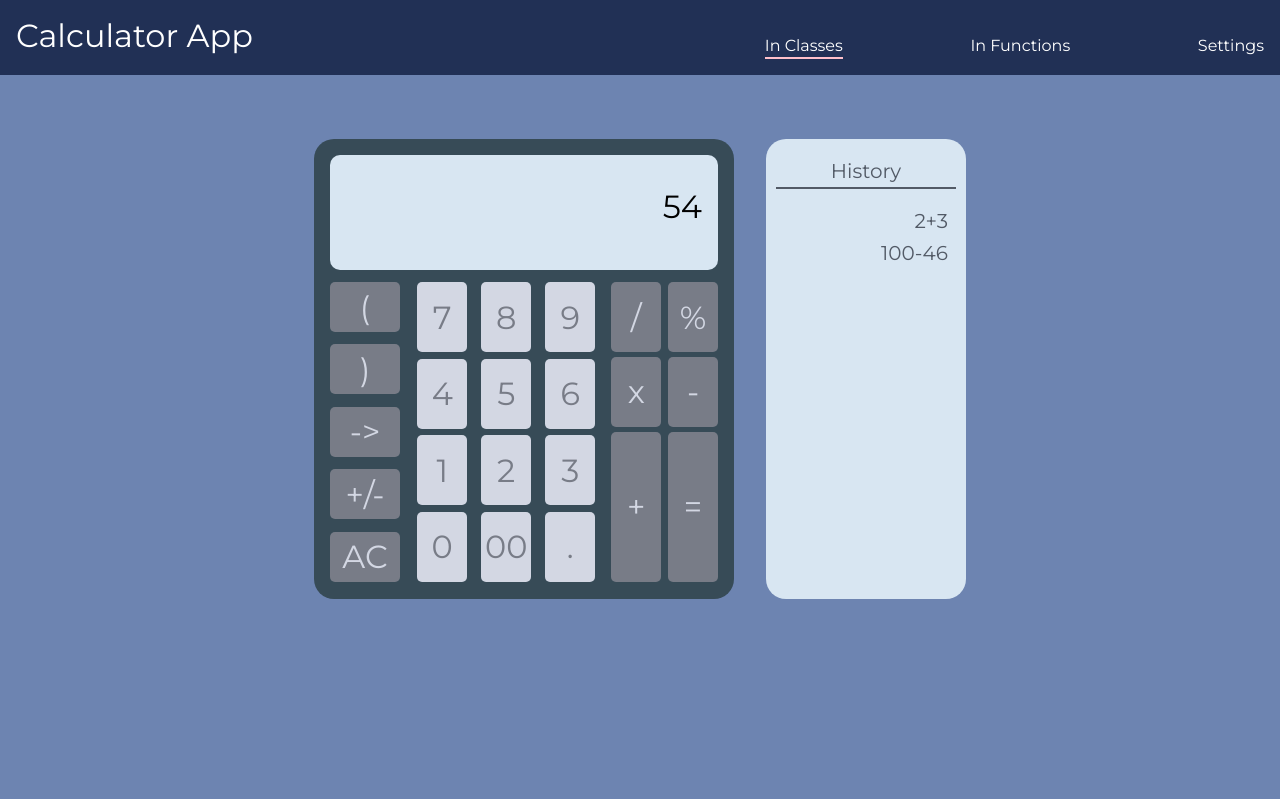
Test: Calculation operations › base 78 / 9 = 8.667
Click the button "7": (442, 317) 417,282 -> 467,352
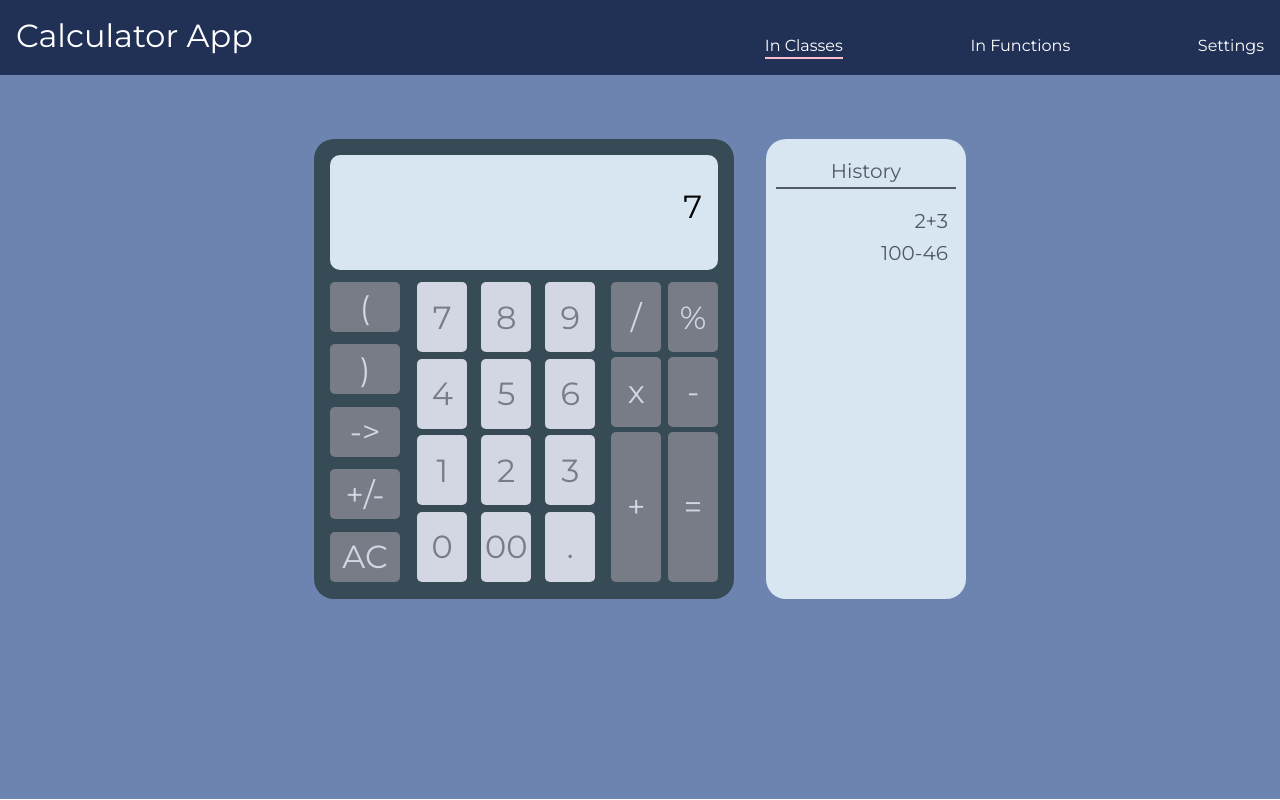
Click the button "8": (506, 317) 481,282 -> 531,352
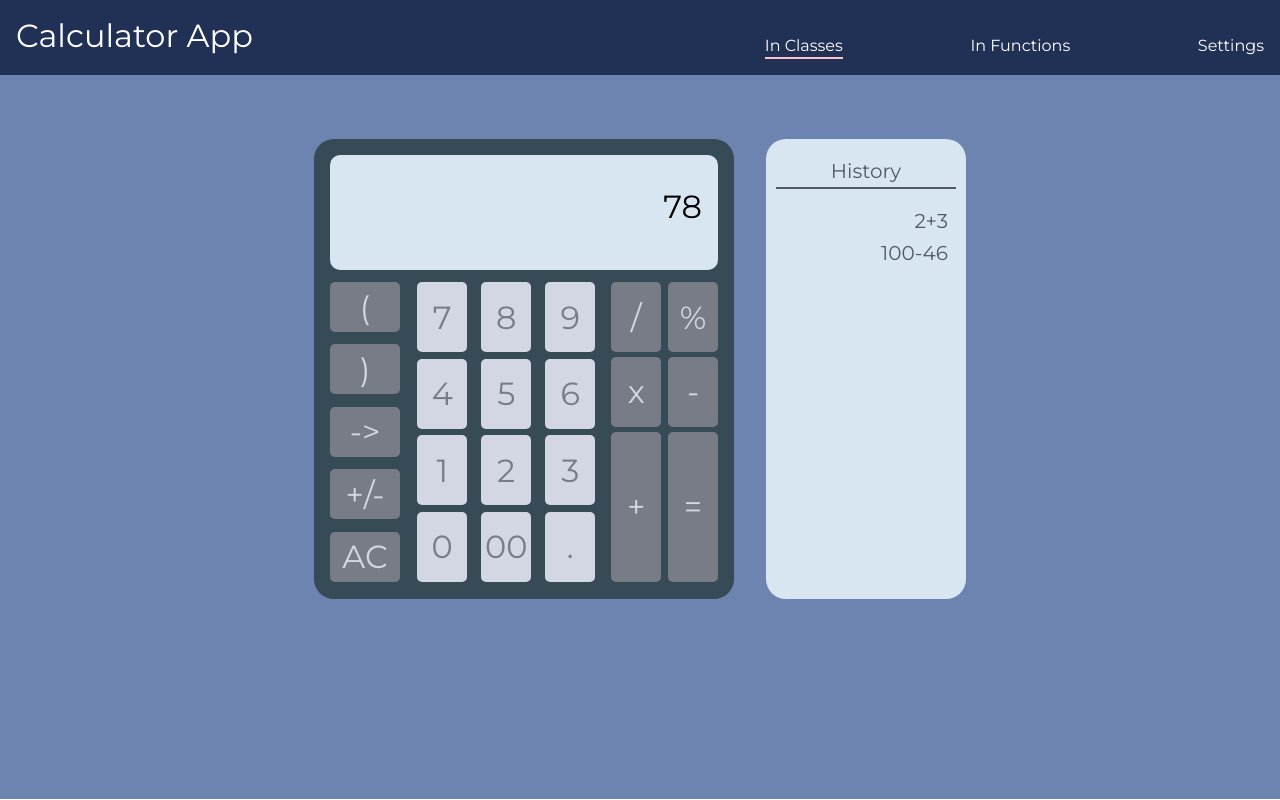
Click the button "/": (636, 317) 611,282 -> 661,352
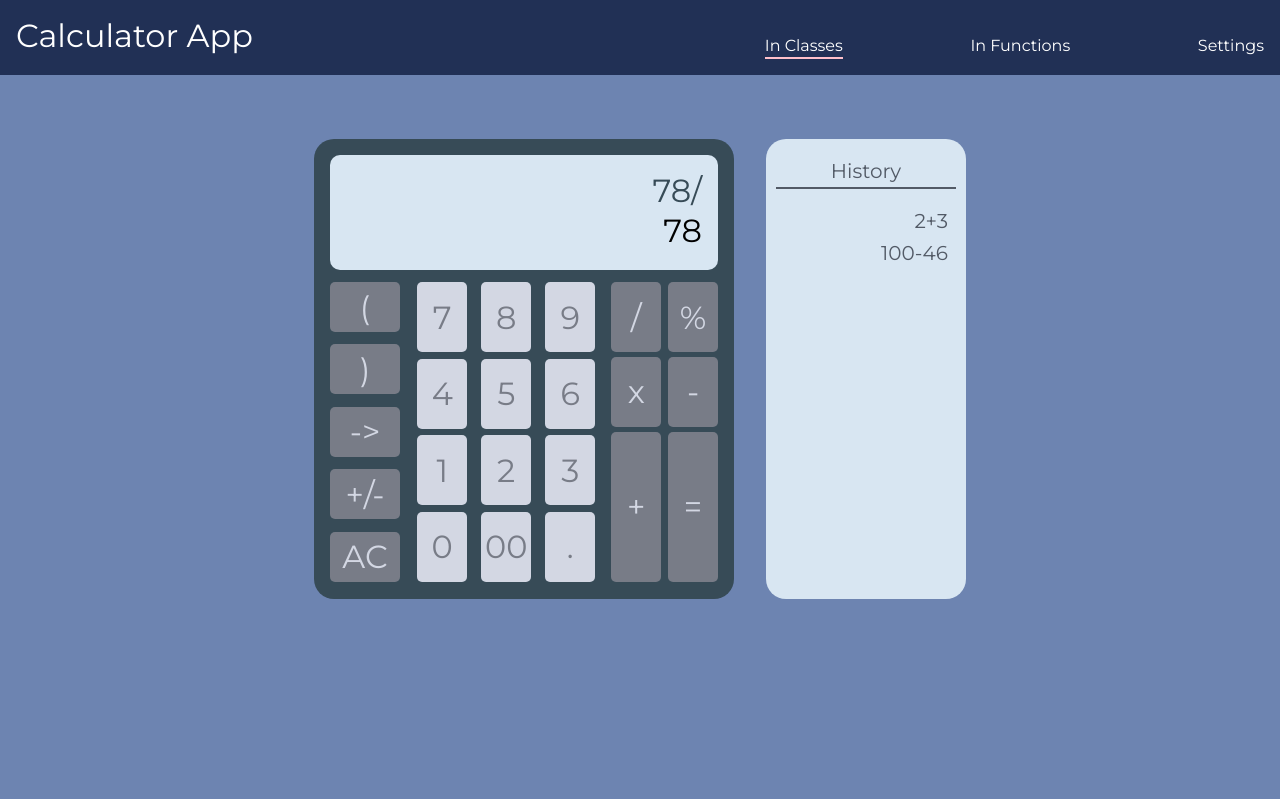
Click the button "9": (570, 317) 545,282 -> 595,352
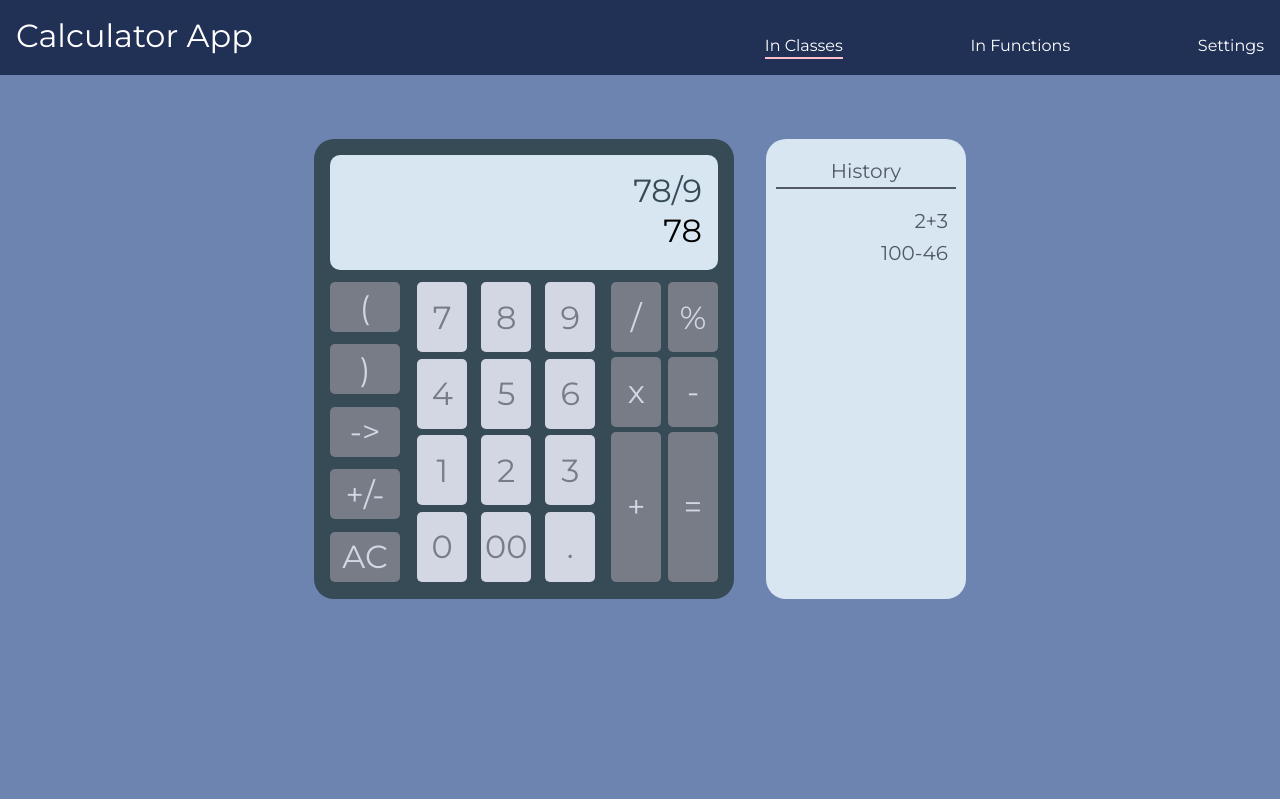
Check: the text with test id "expression-result" reads "78/9", box 633,171 -> 702,210
Click the button "=": (693, 507) 668,432 -> 718,582
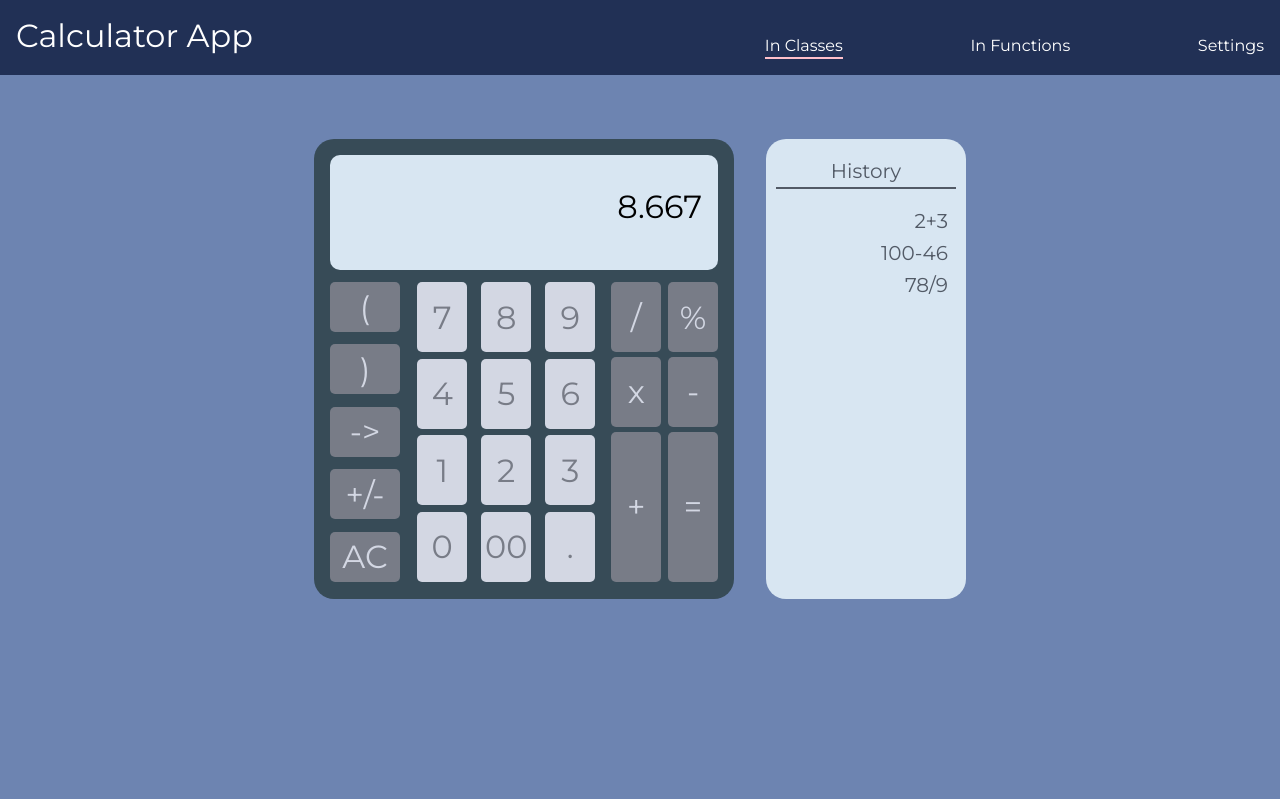
Check: the text with test id "expression-result" reads "8.667", box 617,187 -> 702,226
